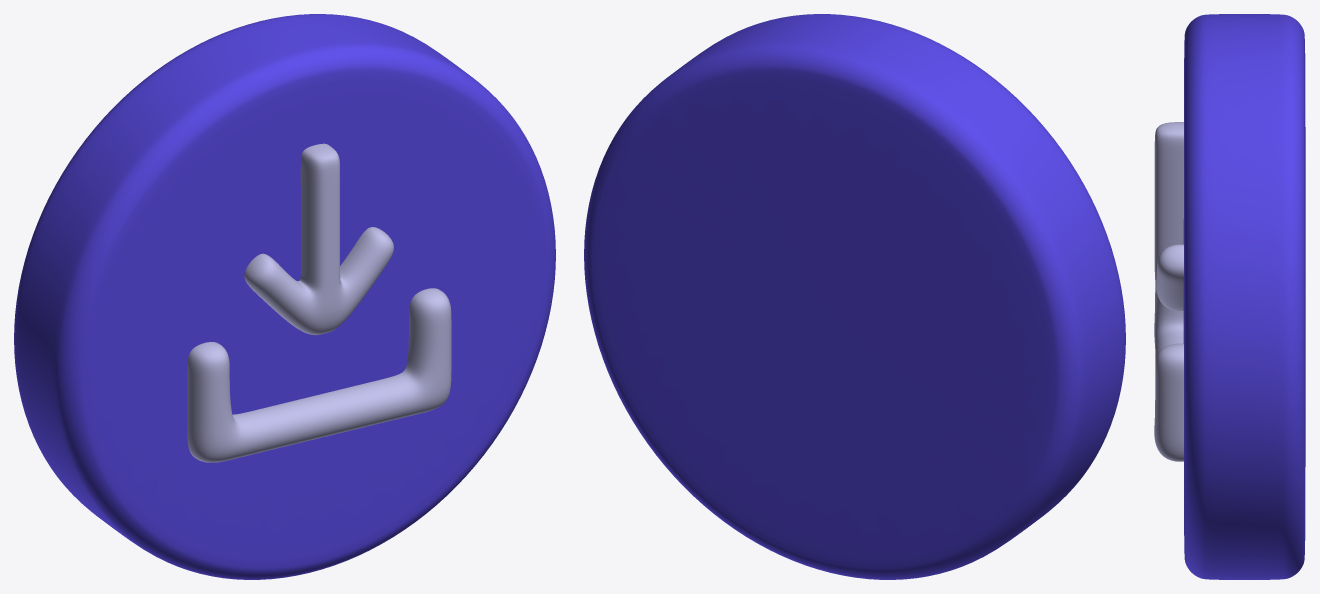
Rendered from download-animated-3d-icon-1188905335166.glb.
The picture shows the model from 3 angles, left to right: view 1: azimuth 30°, elevation 25°; view 2: azimuth 150°, elevation 25°; view 3: azimuth 270°, elevation 25°; orthographic projection.
Visible parts, largest first — view 1: Base.007, Plane.001, Arrow Base.005; view 2: Base.007; view 3: Base.007, Arrow Base.005, Plane.001.
Boxes of the visible parts, x1,y1,x2,y2 form: Base.007: (14,14,555,579); Plane.001: (187,288,451,462); Arrow Base.005: (244,143,393,335); Base.007: (584,14,1125,579); Base.007: (1183,14,1305,579); Arrow Base.005: (1154,122,1183,311); Plane.001: (1154,284,1183,461).
Size of the model in its own units: 1.99 by 1.99 by 0.5312.
